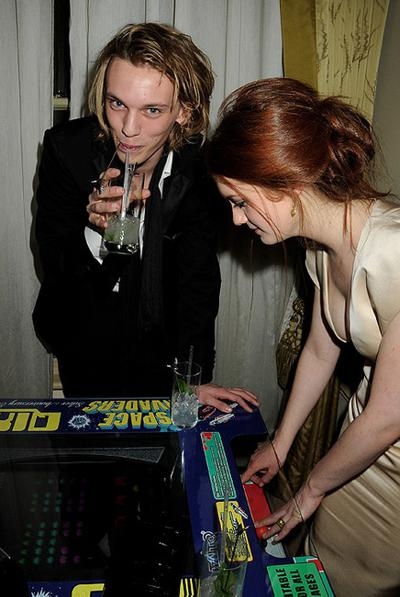person: (27, 20, 261, 421)
